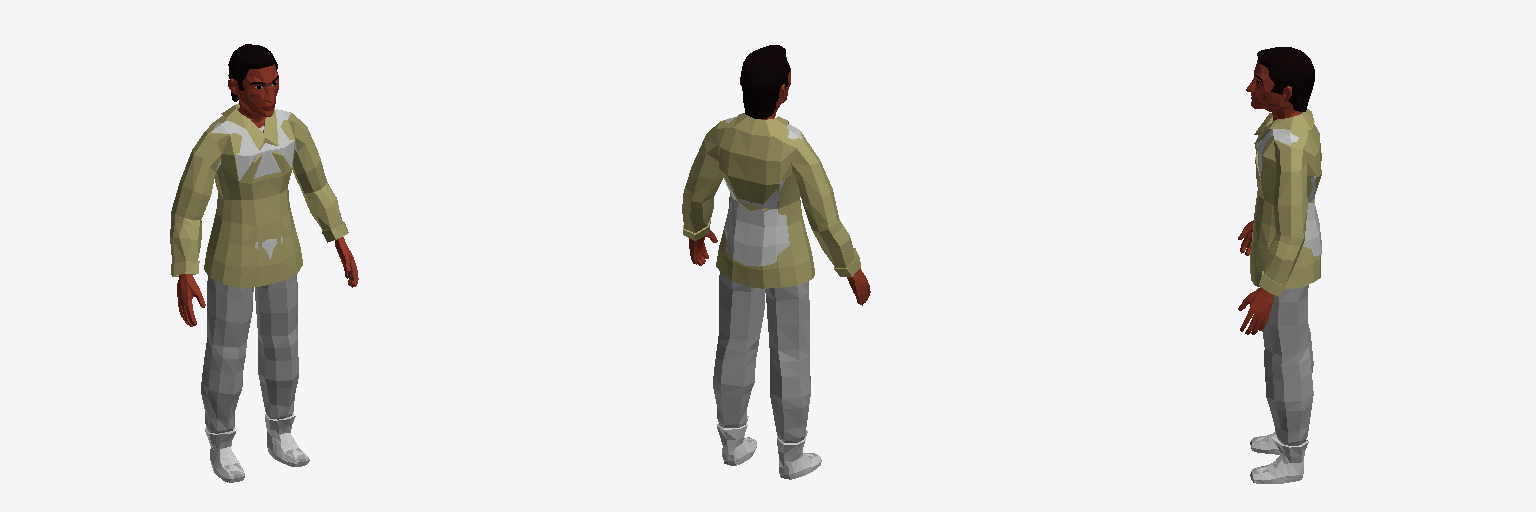
File: character.obj
3 views of the same model, side by side, from view 1: azimuth 30°, elevation 25°; view 2: azimuth 150°, elevation 25°; view 3: azimuth 270°, elevation 25° (orthographic).
Visible parts, largest first — view 1: jacket_Untitled.008, pants_Untitled.005, body_Untitled.001, shoes_heavy_Untitled.006, tshirt_Untitled.000; view 2: jacket_Untitled.008, pants_Untitled.005, body_Untitled.001, tshirt_Untitled.000, shoes_heavy_Untitled.006; view 3: jacket_Untitled.008, pants_Untitled.005, body_Untitled.001, shoes_heavy_Untitled.006, tshirt_Untitled.000.
Part boxes in pixels (x1,y1,x2,y2): jacket_Untitled.008: (170,103,348,287); pants_Untitled.005: (201,274,298,433); body_Untitled.001: (177,44,358,326); shoes_heavy_Untitled.006: (205,413,309,482); tshirt_Untitled.000: (211,109,296,259); jacket_Untitled.008: (682,113,860,288); pants_Untitled.005: (713,272,810,442); body_Untitled.001: (689,45,870,305); tshirt_Untitled.000: (724,117,802,266); shoes_heavy_Untitled.006: (717,416,821,479); jacket_Untitled.008: (1250,109,1321,296); pants_Untitled.005: (1262,285,1313,445); body_Untitled.001: (1238,47,1314,334); shoes_heavy_Untitled.006: (1252,431,1308,483); tshirt_Untitled.000: (1251,122,1321,256).
Size of the model in its own units: 0.791 by 1.8 by 0.3302.